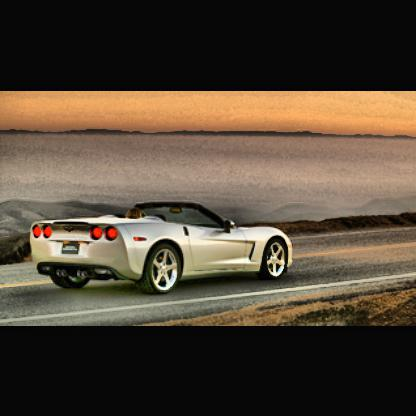Chevrolet Corvette Convertible 2012: (32, 202, 294, 298)
